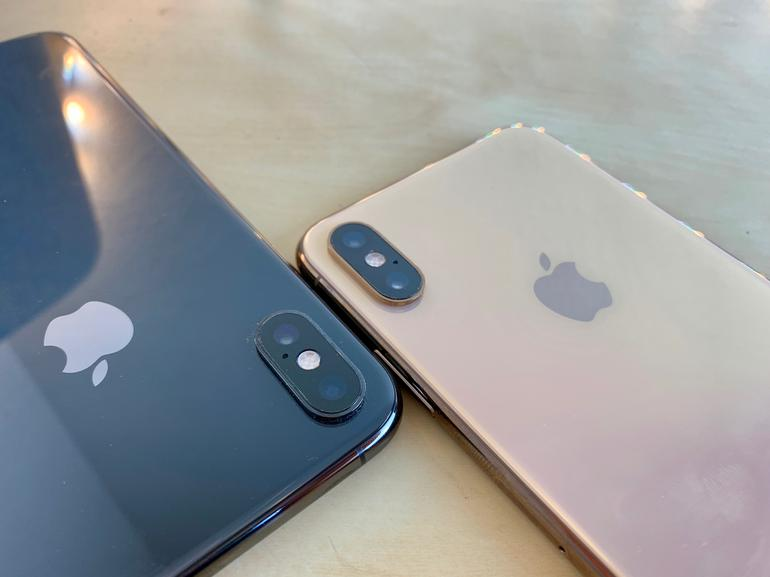apple: (30, 294, 183, 403), (510, 238, 639, 330)
